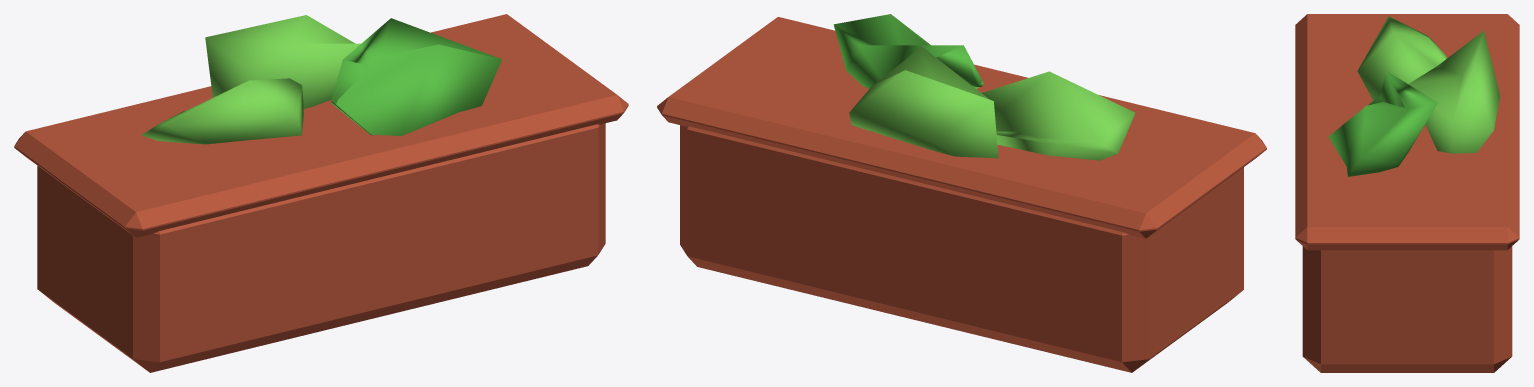
Rendered from planter_box_01.gltf.
3 renders of one model, left to right at view 1: azimuth 30°, elevation 25°; view 2: azimuth 150°, elevation 25°; view 3: azimuth 270°, elevation 25°, orthographic. The views are drawn at different scales.
Visible parts, largest first — view 1: box, rim, tp1, tp2, tp0; view 2: box, rim, tp2, tp0, tp1; view 3: rim, box, tp2, tp1, tp0.
Part boxes in pixels (<box>): box: <box>37,123,605,372</box>; rim: <box>14,14,628,237</box>; tp1: <box>331,18,501,135</box>; tp2: <box>205,15,360,108</box>; tp0: <box>141,78,303,144</box>; box: <box>680,125,1243,372</box>; rim: <box>657,17,1266,238</box>; tp2: <box>849,47,998,158</box>; tp0: <box>982,71,1135,160</box>; tp1: <box>833,14,983,88</box>; rim: <box>1295,14,1519,250</box>; box: <box>1302,246,1512,372</box>; tp2: <box>1408,30,1500,153</box>; tp1: <box>1328,71,1437,176</box>; tp0: <box>1357,16,1447,100</box>.
Bounding box in the file's own units: 0.8761 × 0.3953 × 0.3723.
